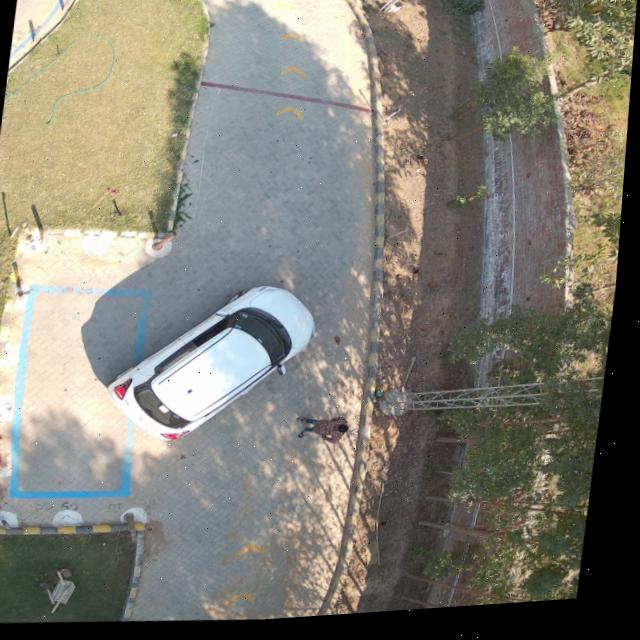car: (112, 289, 319, 443)
